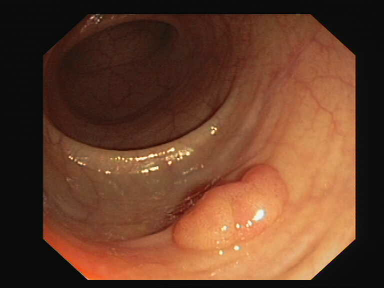polyp: (165, 155, 306, 251)
